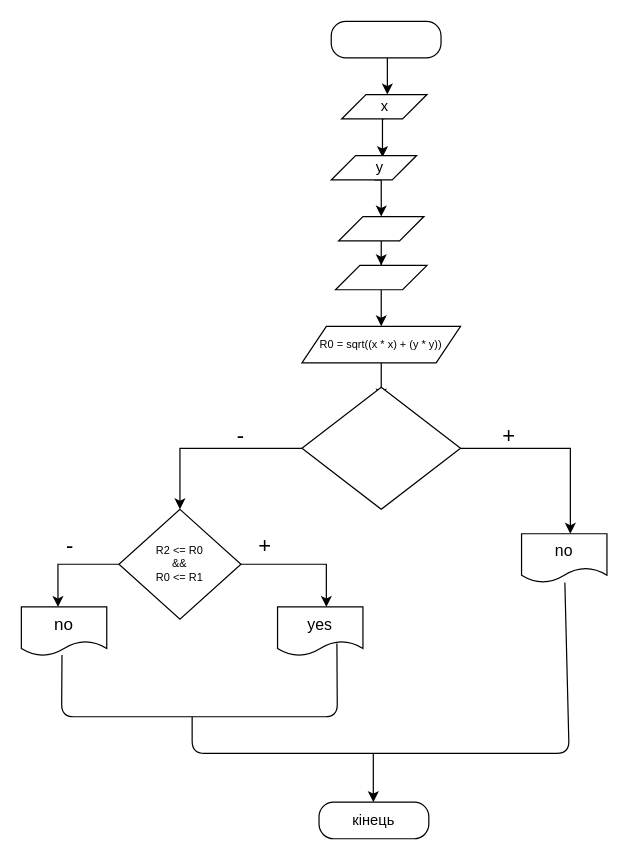
Image size: 628x860. Some labels were removed from this diagram. Each missing label, with the centre of its shape:
"(x<0 && y>0) || (x>0 && y<0)" goes at (381,447).
"R1" goes at (380,228).
"R2" goes at (380,277).
"початок" goes at (385,39).
